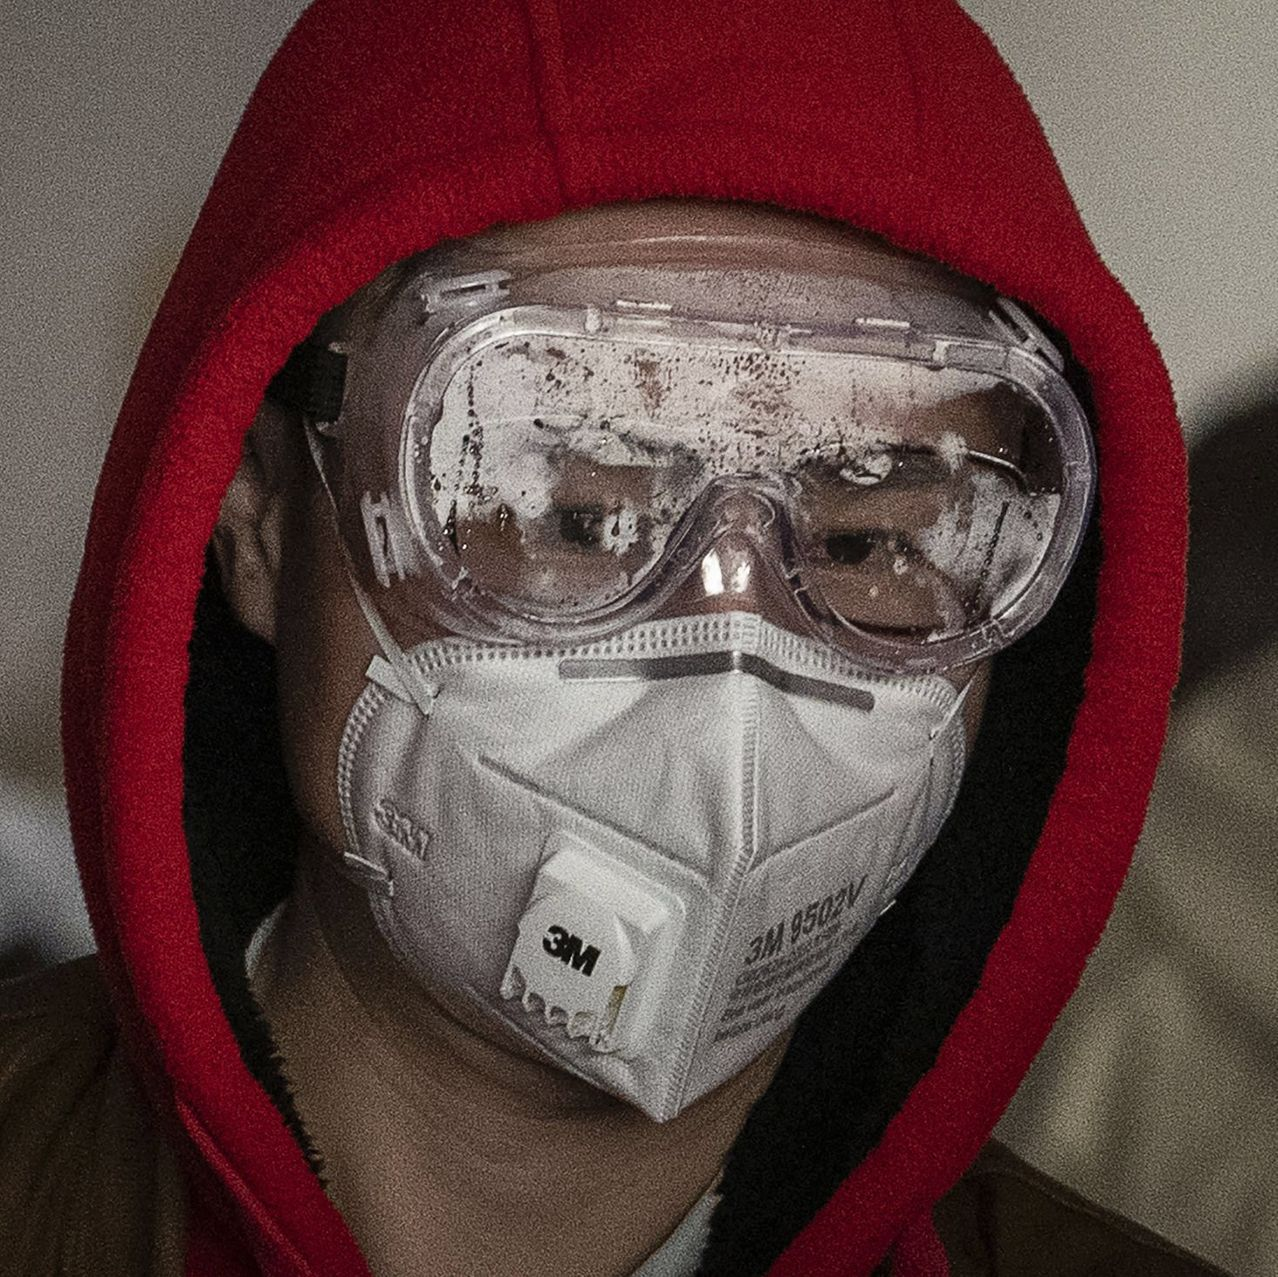n95: (316, 598, 966, 1121)
